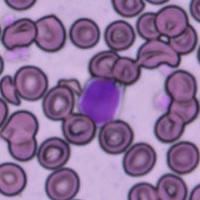L: (76, 78, 124, 127)
